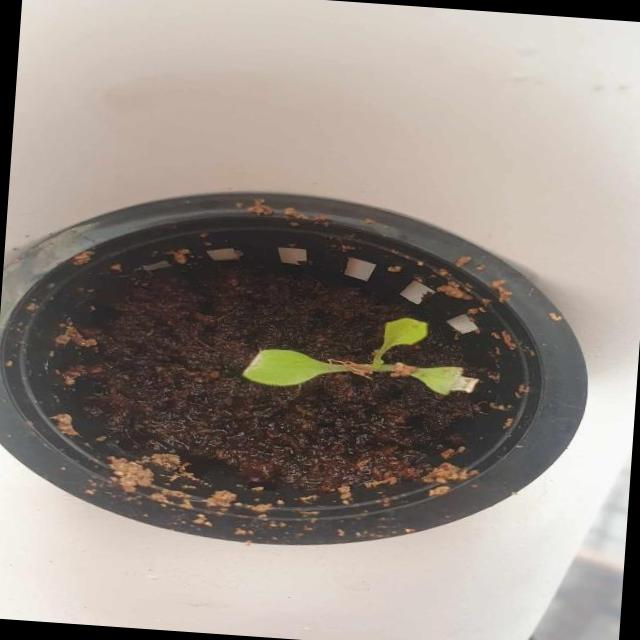Lettuce-Not-Ready-to-Harvest: (240, 317, 462, 395)
